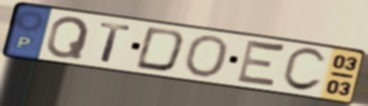C: (278, 47, 329, 94)
D: (132, 25, 188, 74)
E: (233, 37, 289, 91)
O: (181, 34, 231, 79)
Q: (44, 15, 93, 60)
T: (98, 20, 134, 65)
